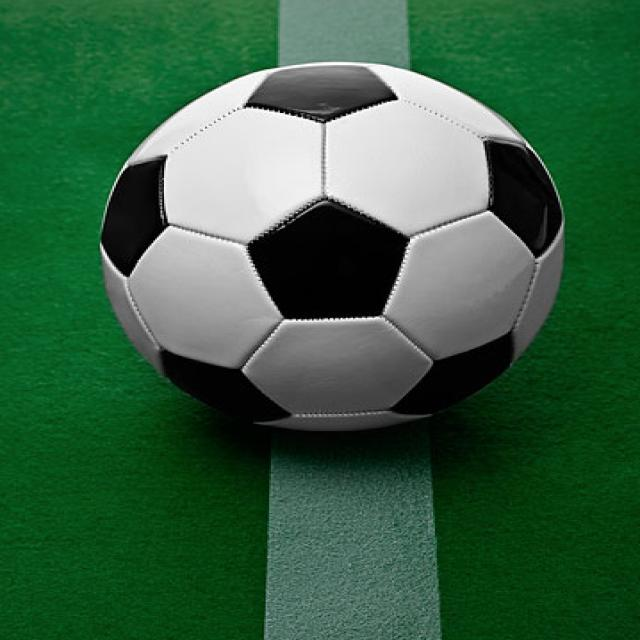football: (60, 36, 592, 461)
